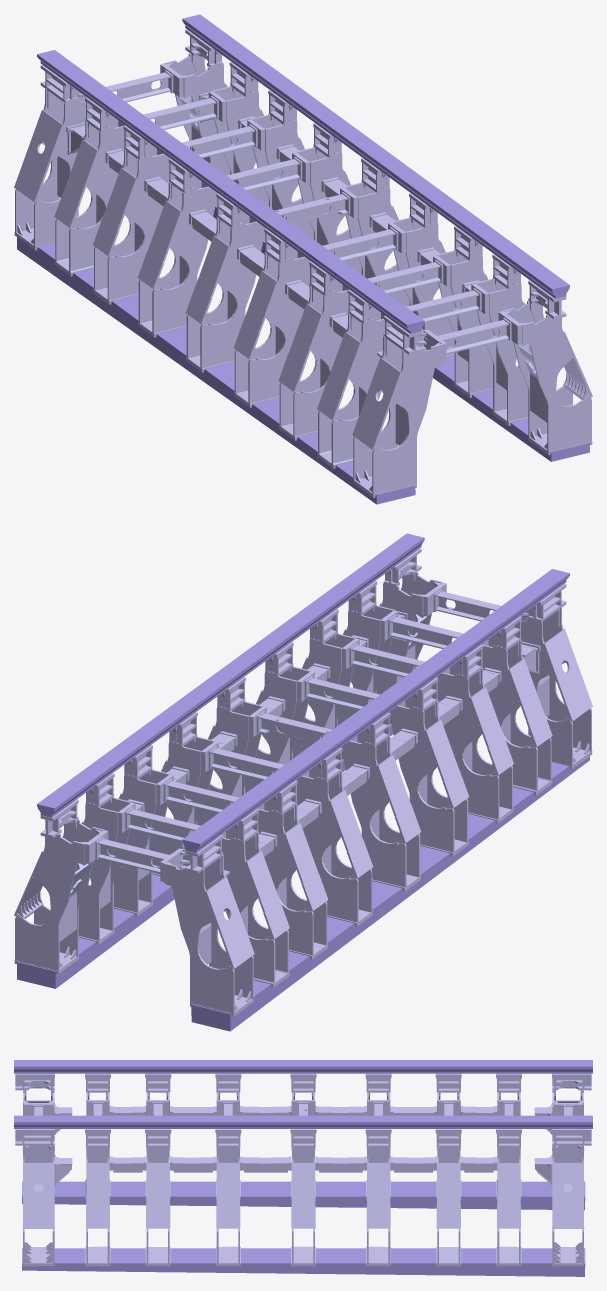
File: feet.glb
3 views of the same model, one above another, from view 1: azimuth 30°, elevation 25°; view 2: azimuth 150°, elevation 25°; view 3: azimuth 270°, elevation 25° (orthographic). The views are drawn at different scales.
Visible parts, largest first — view 1: null; view 2: null; view 3: null.
Part boxes in pixels (left/top/right/bottom): null: left=14, top=14, right=592, bottom=504; null: left=14, top=533, right=592, bottom=1031; null: left=14, top=1060, right=592, bottom=1276.
Size of the model in its own units: 9.09 by 7.3 by 26.42.
